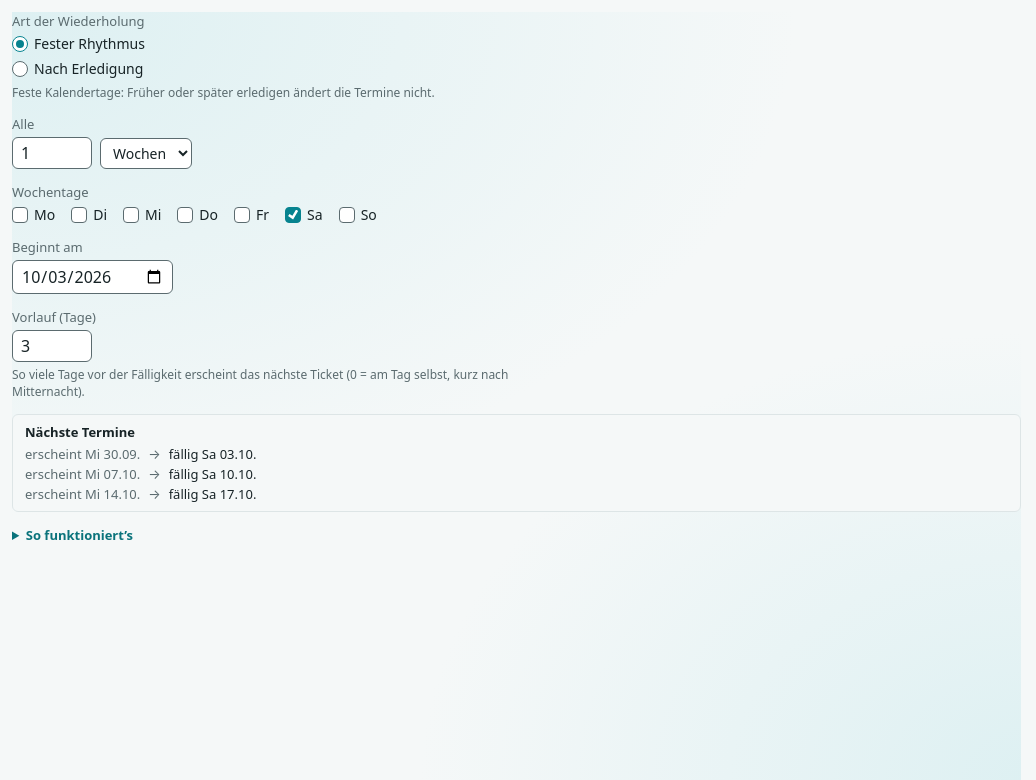
Test: RecurrenceForm: preview from the due date of the ticket (RV-1) › hides "Beginnt am" after completion at a ticket and shows it again for a fixed rhythm
Expected: the date field labelled "Beginnt am" holds "2026-10-03", [12, 260, 173, 294]
Click the radio button labelled "Nach Erledigung": [20, 68] box [12, 60, 28, 76]
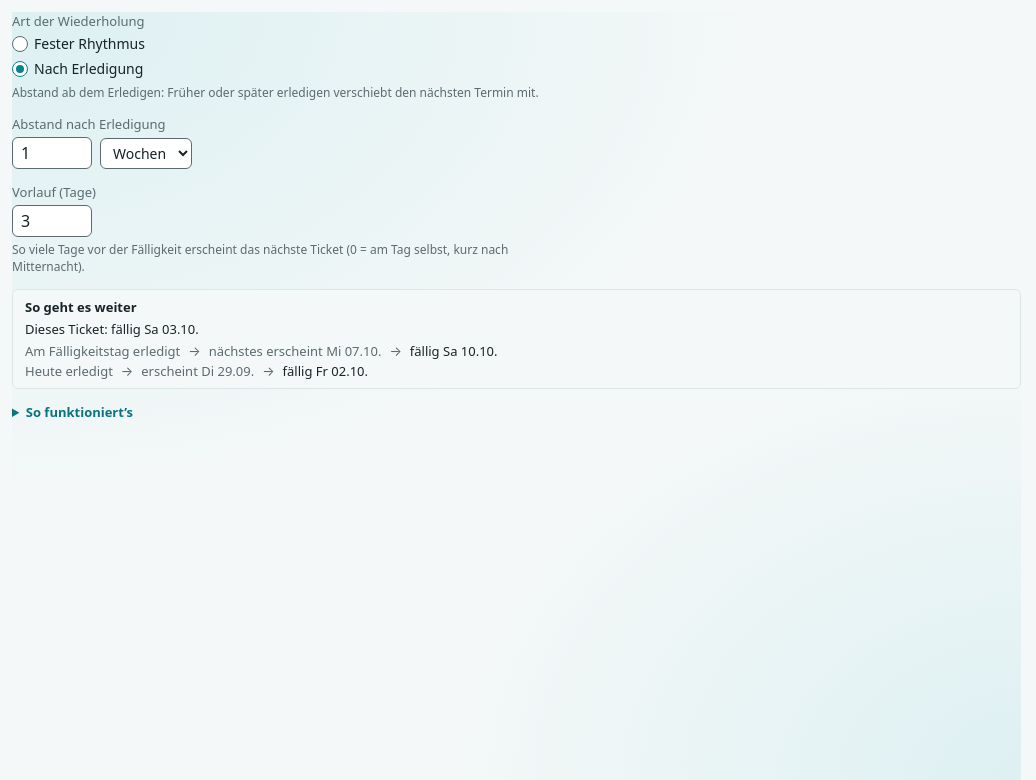
Now the label labelled "Beginnt am" is gone
Click the radio button labelled "Fester Rhythmus": [20, 44] box [12, 36, 28, 52]
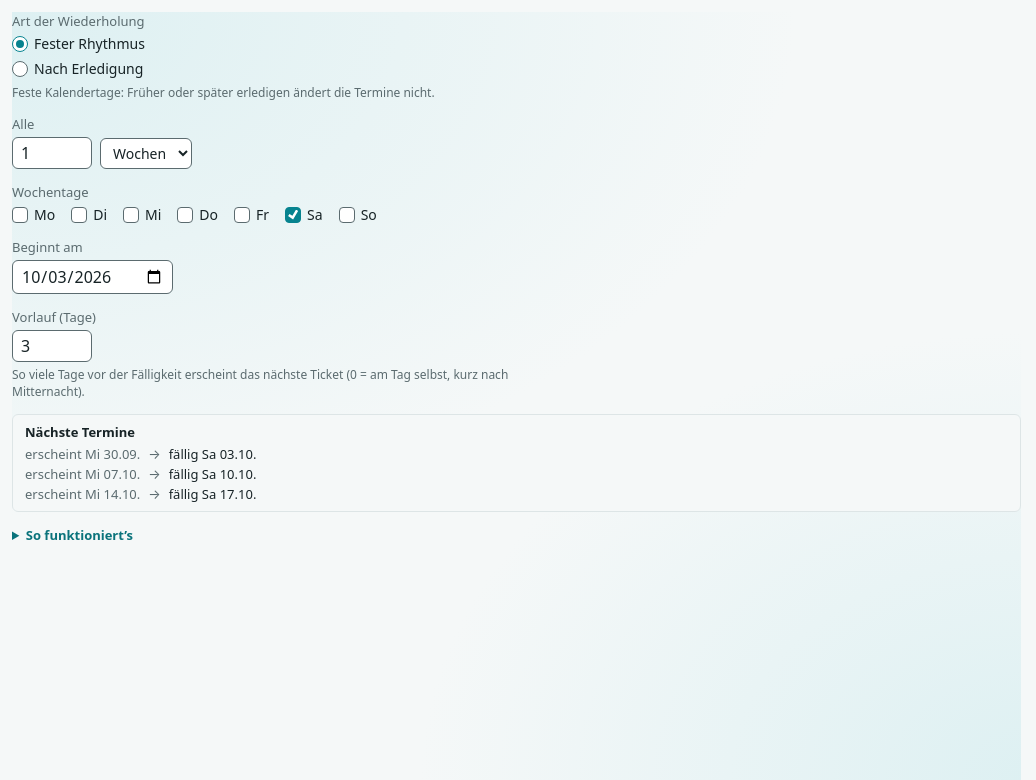
Now the date field labelled "Beginnt am" holds "2026-10-03", box [12, 260, 173, 294]
